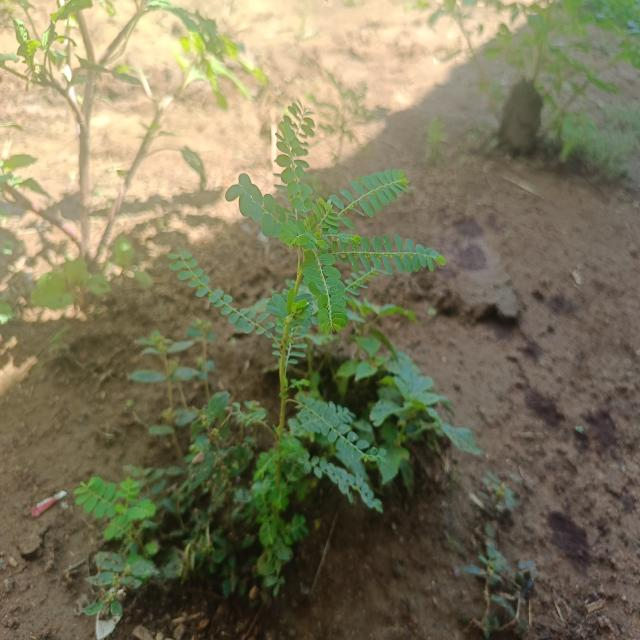weed: (161, 116, 483, 594), (122, 329, 267, 600), (58, 472, 169, 623), (465, 475, 543, 634)
